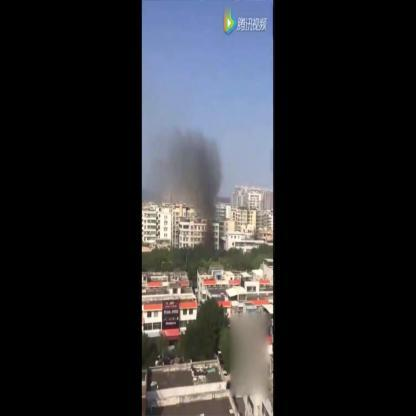smoke: (170, 124, 224, 208)
